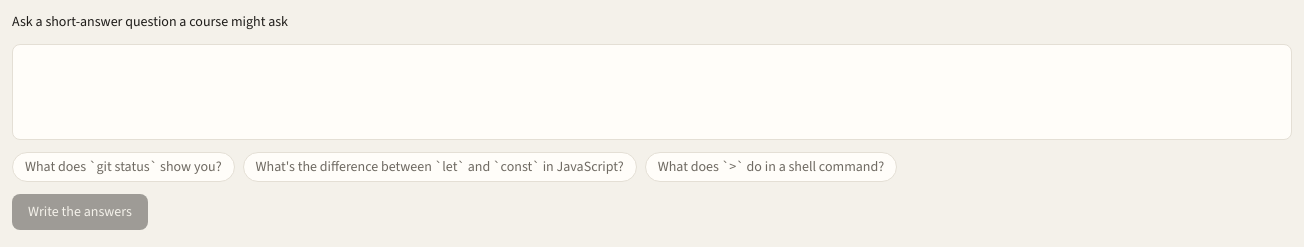
Test: QuestionForm › fills the box from a sample
Click the button "What does `git status` show you?" at (123, 167), box [12,152,235,182]
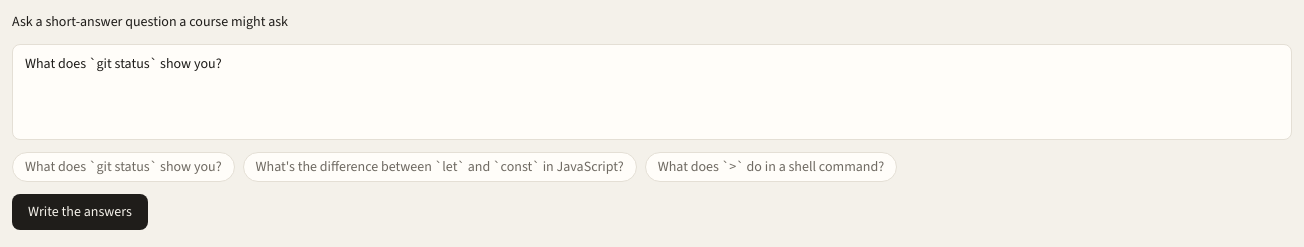
Expected: the text box labelled "Ask a short-answer question a course might ask" holds "What does `git status` show you?", [12,44,1292,140]
